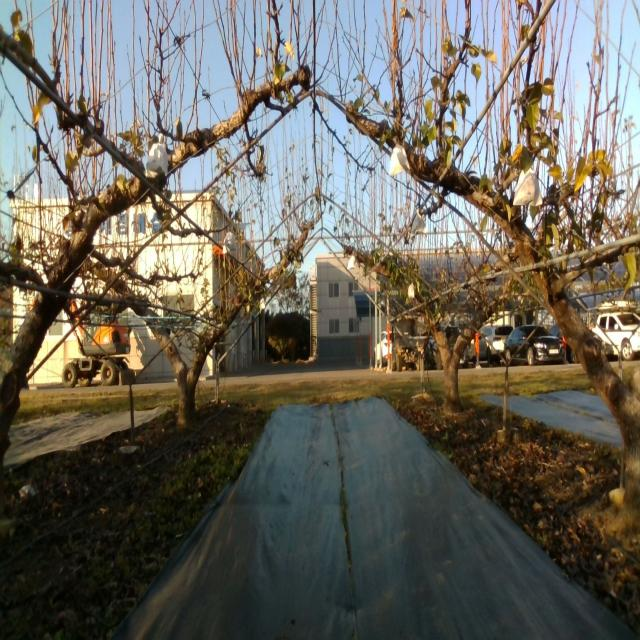pearbags: (512, 169, 543, 207), (146, 142, 168, 178), (389, 143, 410, 177), (410, 207, 428, 240), (222, 231, 237, 255)
